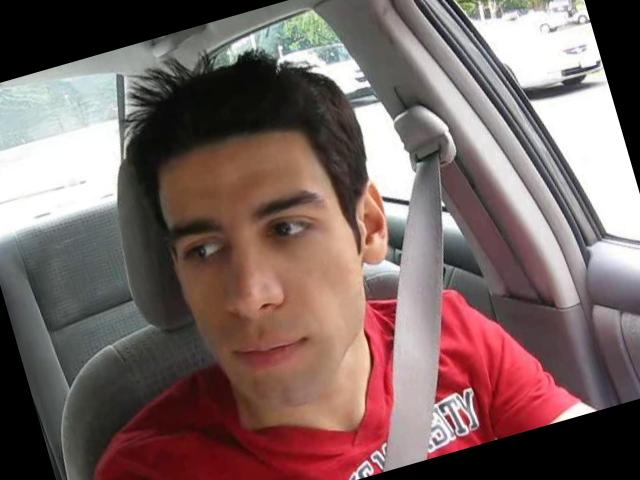eye_open: (258, 204, 324, 254), (177, 229, 232, 273)
face: (155, 156, 393, 446)
